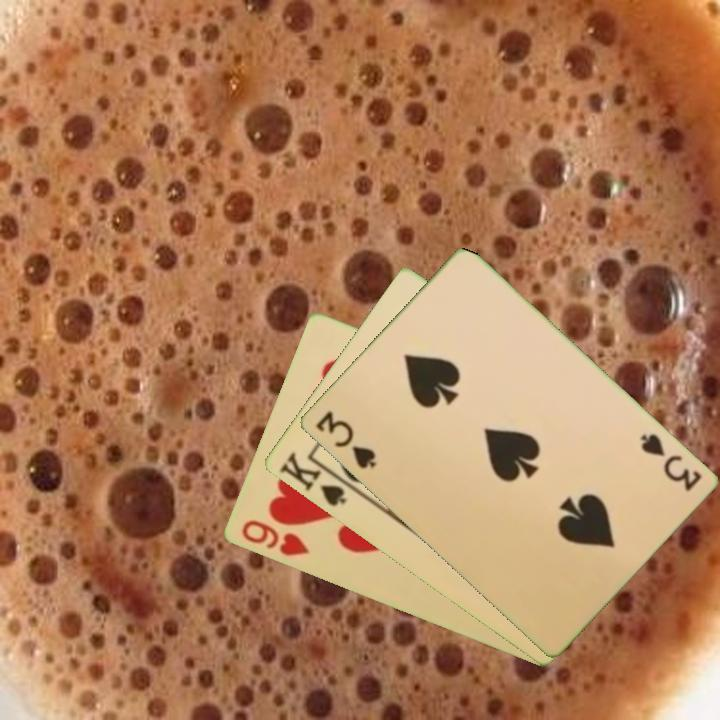3s: (311, 407, 379, 472), (636, 430, 704, 495)
9h: (237, 516, 312, 560)
Ks: (275, 448, 349, 510)
